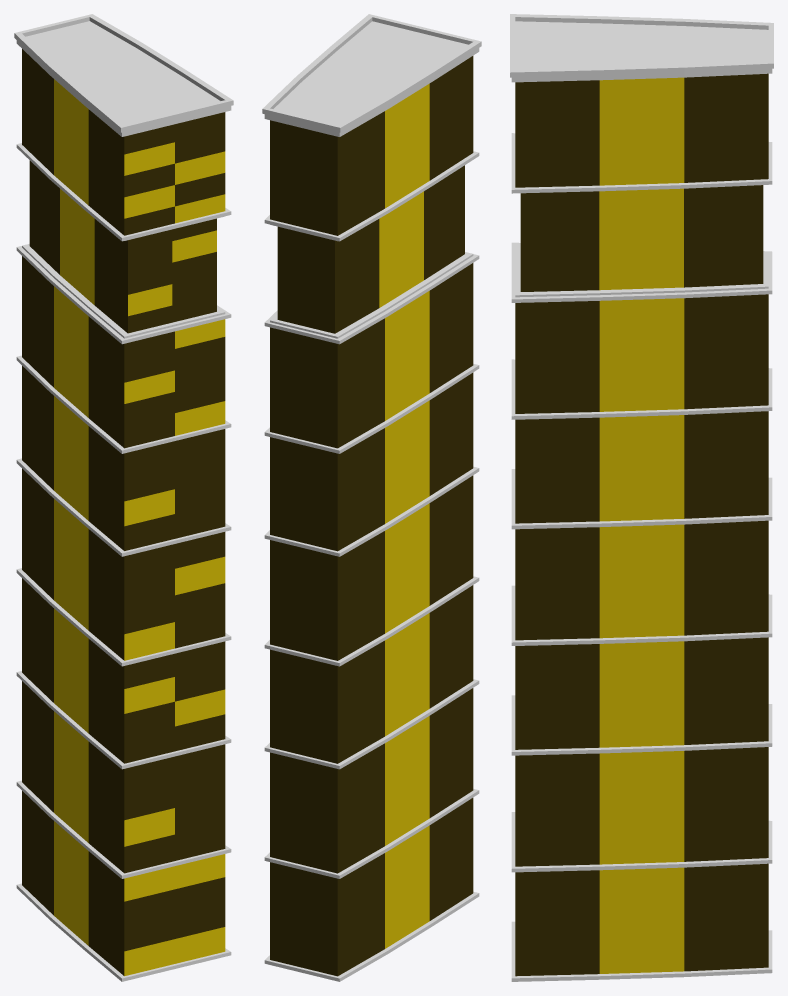
File: PredioMagreza.fbx
3 views of the same model, side by side, from view 1: azimuth 30°, elevation 25°; view 2: azimuth 150°, elevation 25°; view 3: azimuth 270°, elevation 25° (orthographic). The views are drawn at different scales.
Visible parts, largest first — view 1: PredioMalfeito; view 2: PredioMalfeito; view 3: PredioMalfeito.
Boxes of the visible parts, left/top/right/bottom form: PredioMalfeito: left=14, top=14, right=233, bottom=981; PredioMalfeito: left=262, top=14, right=481, bottom=981; PredioMalfeito: left=510, top=14, right=773, bottom=981.
Bounding box in the file's own units: 81 × 587 × 154.
